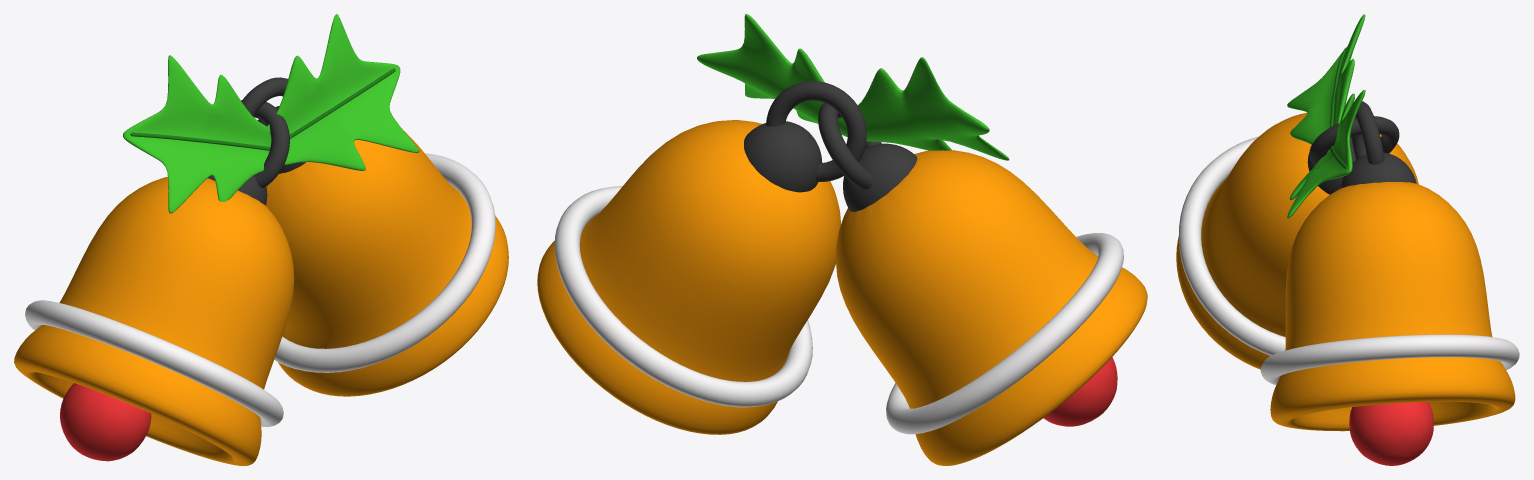
File: bell_02.fbx
3 renders of one model, left to right at view 1: azimuth 30°, elevation 25°; view 2: azimuth 150°, elevation 25°; view 3: azimuth 270°, elevation 25°, orthographic. The views are drawn at different scales.
Visible parts, largest first — view 1: Sphere, Sphere.004, Cube.005, Cube.003, Sphere.020, Sphere.033, Icosphere, BezierCircle.004, BezierCircle.005, Cube.004, Cube.006; view 2: Sphere.004, Sphere, Sphere.020, Sphere.033, Cube.003, Cube.005, Sphere.005, BezierCircle.005, Sphere.002, Icosphere, BezierCircle.004; view 3: Sphere.004, Sphere, Sphere.020, Sphere.033, Icosphere.001, Cube.003, Cube.005, Sphere.005, BezierCircle.004, BezierCircle.005, Sphere.002.
Boxes of the visible parts, bbox=[...] form: Sphere: bbox=[14, 176, 294, 465]; Sphere.004: bbox=[266, 131, 508, 396]; Cube.005: bbox=[267, 14, 419, 170]; Cube.003: bbox=[123, 55, 270, 213]; Sphere.020: bbox=[274, 153, 495, 372]; Sphere.033: bbox=[25, 300, 283, 426]; Icosphere: bbox=[60, 383, 151, 461]; BezierCircle.004: bbox=[241, 100, 289, 187]; BezierCircle.005: bbox=[241, 77, 287, 116]; Cube.004: bbox=[130, 132, 270, 150]; Cube.006: bbox=[289, 68, 395, 138]; Sphere.004: bbox=[537, 120, 840, 434]; Sphere: bbox=[835, 150, 1147, 465]; Sphere.020: bbox=[554, 186, 812, 407]; Sphere.033: bbox=[886, 233, 1123, 434]; Cube.003: bbox=[858, 57, 1009, 160]; Cube.005: bbox=[697, 14, 847, 136]; Sphere.005: bbox=[744, 121, 822, 192]; BezierCircle.005: bbox=[766, 81, 866, 182]; Sphere.002: bbox=[843, 143, 917, 211]; Icosphere: bbox=[1043, 357, 1117, 426]; BezierCircle.004: bbox=[818, 102, 881, 189]; Sphere.004: bbox=[1270, 182, 1515, 431]; Sphere: bbox=[1176, 112, 1418, 369]; Sphere.020: bbox=[1260, 334, 1519, 385]; Sphere.033: bbox=[1178, 136, 1285, 355]; Icosphere.001: bbox=[1349, 402, 1433, 465]; Cube.003: bbox=[1287, 14, 1365, 152]; Cube.005: bbox=[1287, 90, 1365, 218]; Sphere.005: bbox=[1341, 152, 1416, 188]; BezierCircle.004: bbox=[1309, 116, 1399, 165]; BezierCircle.005: bbox=[1351, 101, 1384, 164]; Sphere.002: bbox=[1307, 137, 1355, 194].
Size of the model in its own units: 1016 by 752 by 650.
